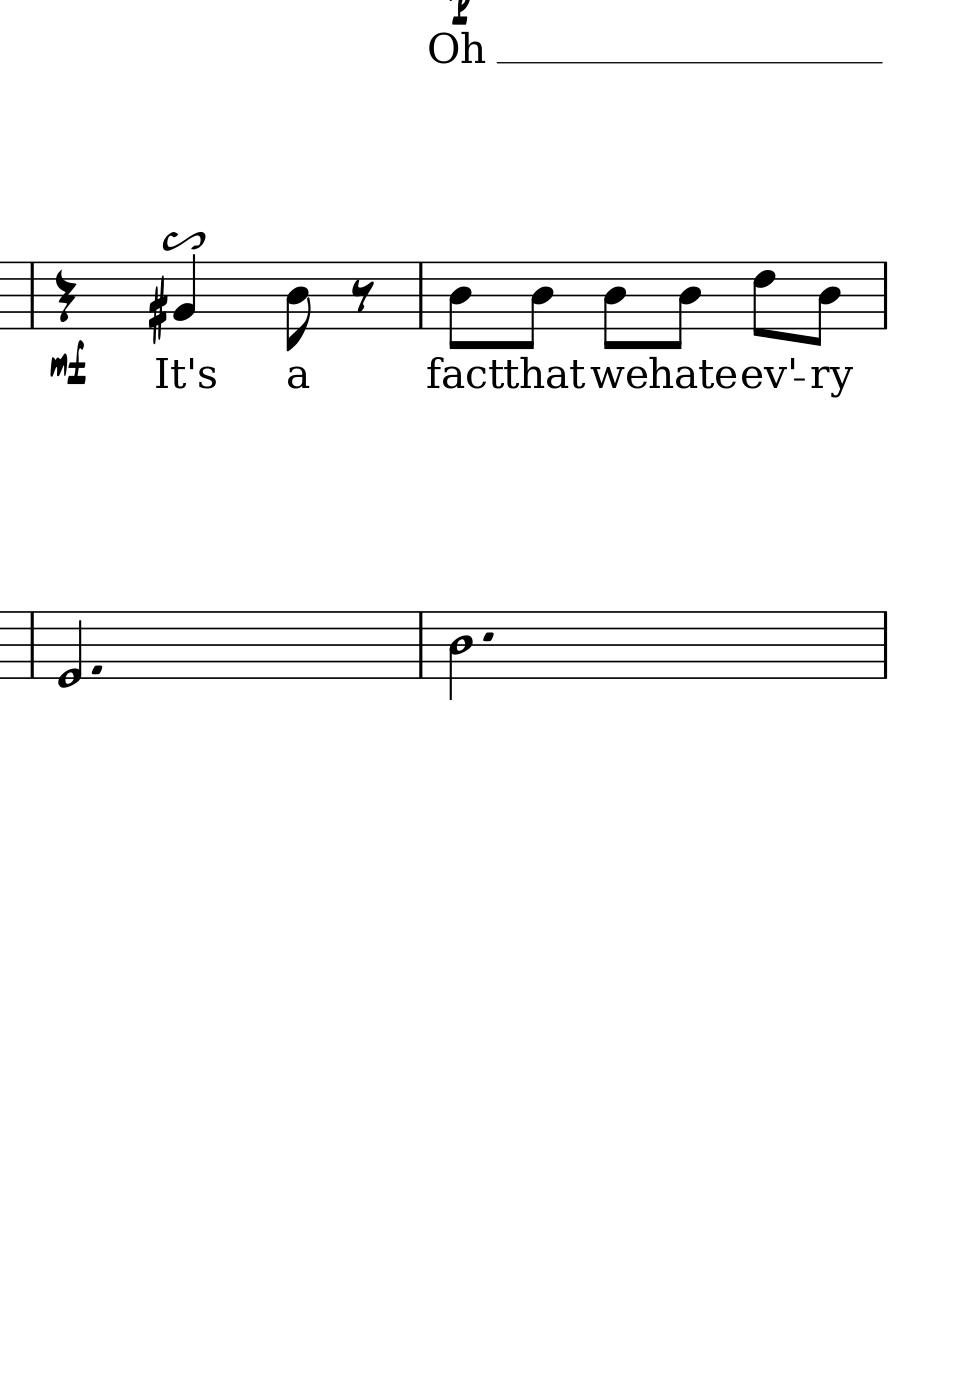2_0: (54, 608, 83, 690)
2_4: (447, 608, 472, 701)
4_2: (171, 253, 197, 332)
8_4: (659, 259, 705, 352), (512, 260, 555, 352), (801, 258, 843, 350), (447, 259, 478, 352), (599, 259, 630, 352), (284, 259, 311, 353)
8_6: (745, 259, 778, 343)
Inverted_turn: (159, 226, 209, 251)
Rests4: (53, 268, 74, 324)
Rests8: (348, 278, 377, 314)
Sharp: (145, 276, 169, 347)
Single_barline: (875, 261, 894, 330), (412, 262, 428, 330), (876, 612, 893, 679), (23, 612, 39, 679), (413, 612, 428, 678), (24, 262, 39, 329)
dot: (482, 629, 496, 645), (88, 662, 104, 676)
mf: (47, 339, 89, 387)
